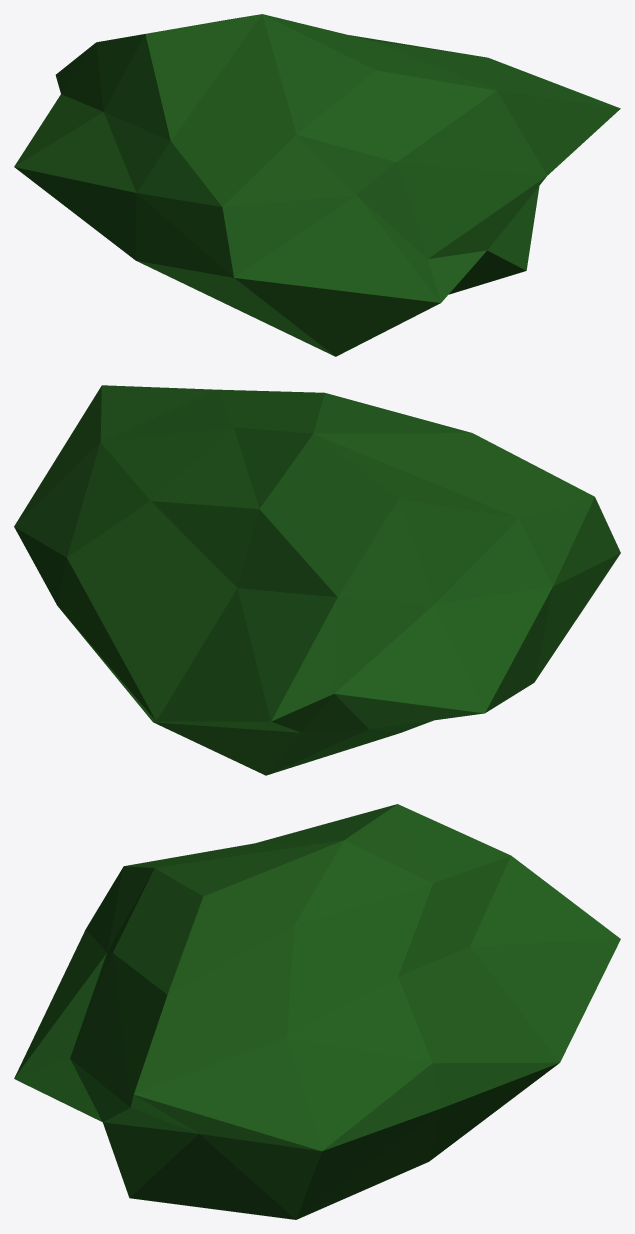
Rendered from bush_4.glb.
The picture shows the model from 3 angles, top to bottom: view 1: azimuth 30°, elevation 25°; view 2: azimuth 150°, elevation 25°; view 3: azimuth 270°, elevation 25°; orthographic projection. The views are drawn at different scales.
Parts seen in each view (by area): view 1: bush_4; view 2: bush_4; view 3: bush_4.
Boxes of the visible parts, left/top/right/bottom form: bush_4: left=14, top=14, right=620, bottom=356; bush_4: left=14, top=385, right=620, bottom=775; bush_4: left=14, top=804, right=620, bottom=1219.
Bounding box in the file's own units: 0.79 × 0.422 × 0.7859.
